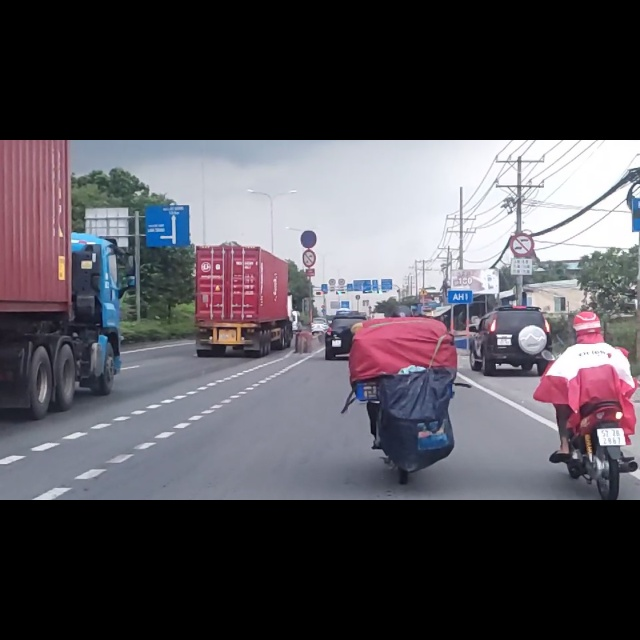bien_hieu_lenh: (510, 166, 534, 207), (300, 159, 318, 191), (303, 194, 316, 226)
